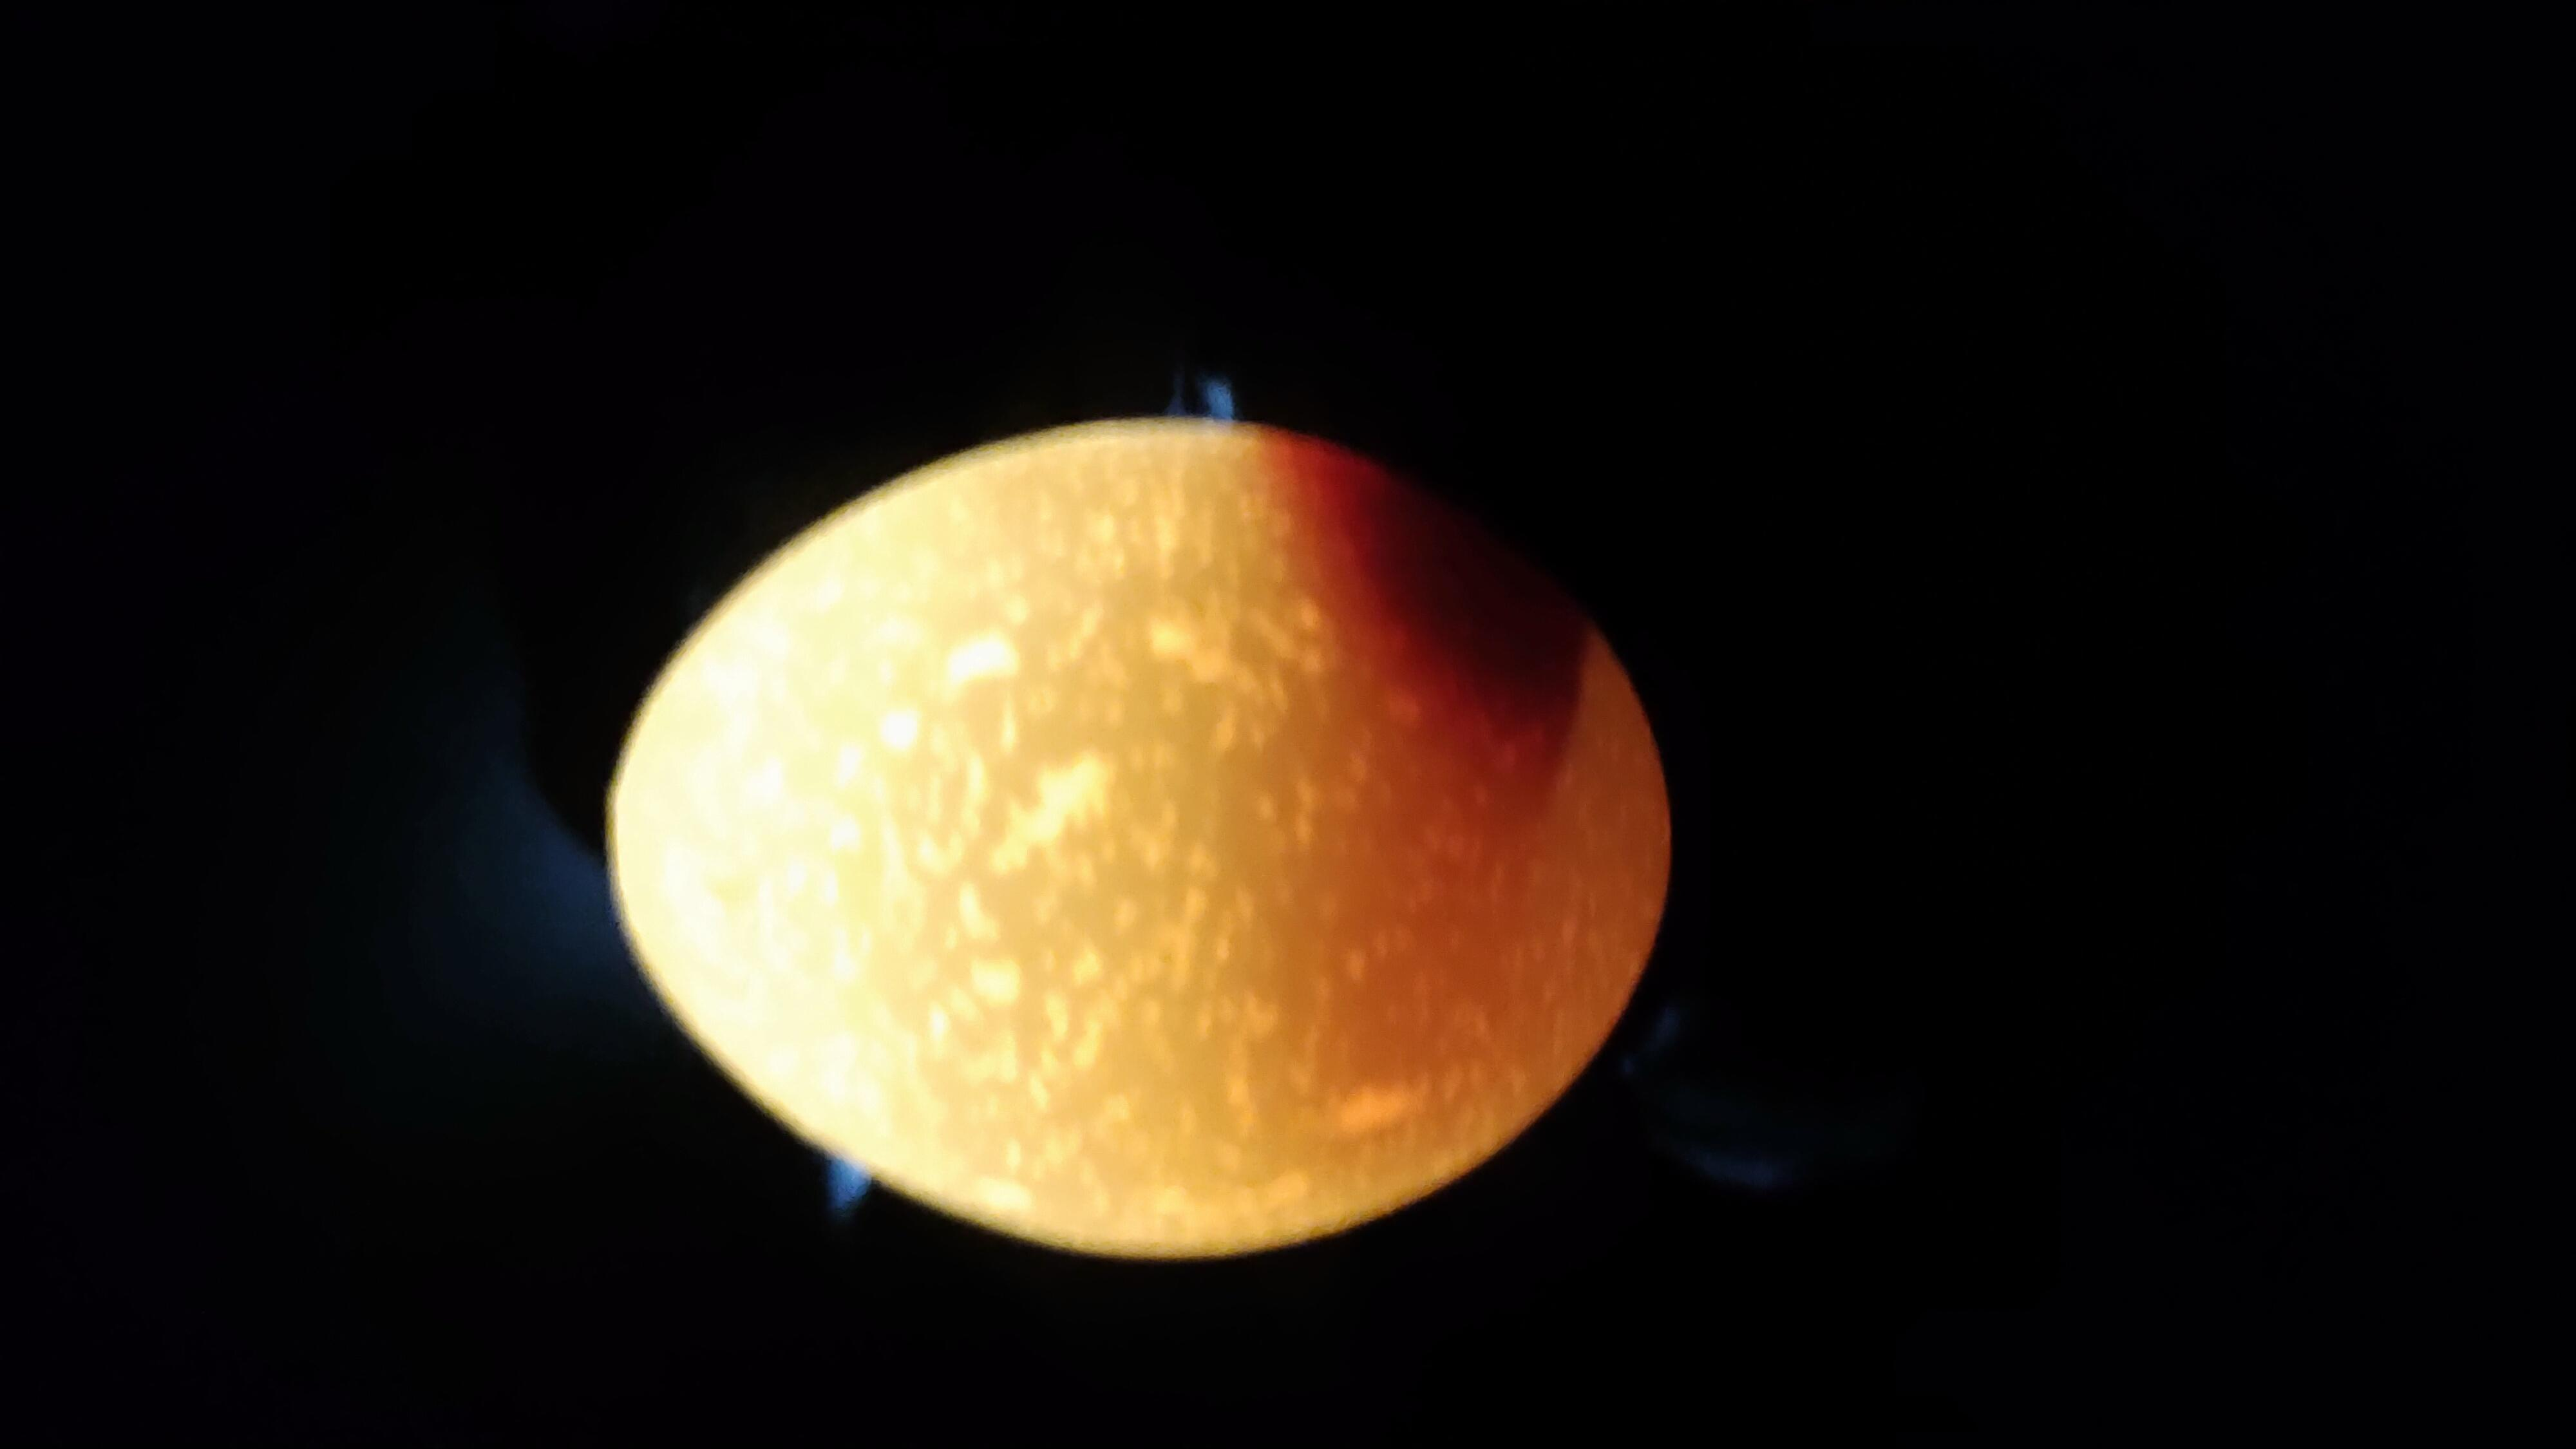AA - Premium: (281, 320, 1861, 962)
